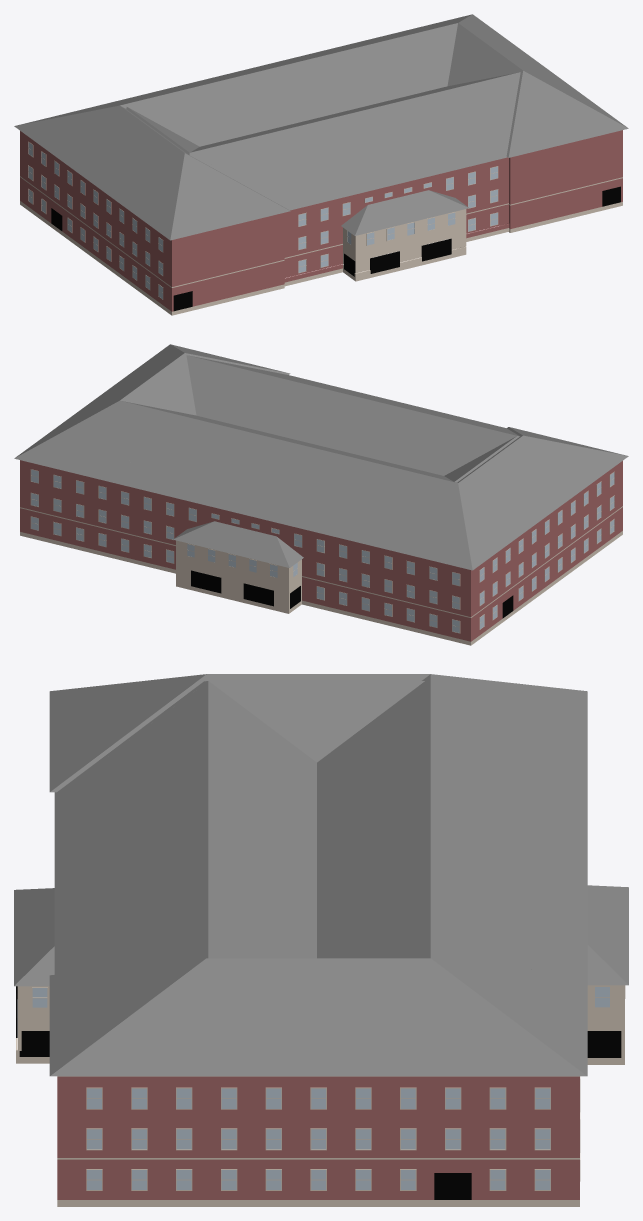
File: LargeBuilding.fbx
3 renders of one model, top to bottom at view 1: azimuth 30°, elevation 25°; view 2: azimuth 150°, elevation 25°; view 3: azimuth 270°, elevation 25°, orthographic. The views are drawn at different scales.
Visible parts, largest first — view 1: Cube__3_, Cube__3_.001, University_Building, University_Building.001; view 2: Cube__3_, Cube__3_.001, University_Building; view 3: Cube__3_, Cube__3_.001, University_Building, University_Building.001.
Boxes of the visible parts, box(x1,y1,x2,y2) form: Cube__3_: box(14, 14, 628, 307); Cube__3_.001: box(126, 72, 520, 277); University_Building: box(20, 186, 622, 315); University_Building.001: box(284, 223, 509, 286); Cube__3_: box(14, 344, 628, 637); Cube__3_.001: box(186, 355, 519, 482); University_Building: box(20, 527, 622, 645); Cube__3_: box(49, 674, 628, 1193); Cube__3_.001: box(14, 681, 424, 1050); University_Building: box(57, 1031, 624, 1206); University_Building.001: box(16, 986, 49, 1063).
Bounding box in the file's own units: 6101 × 4117 × 1538.
